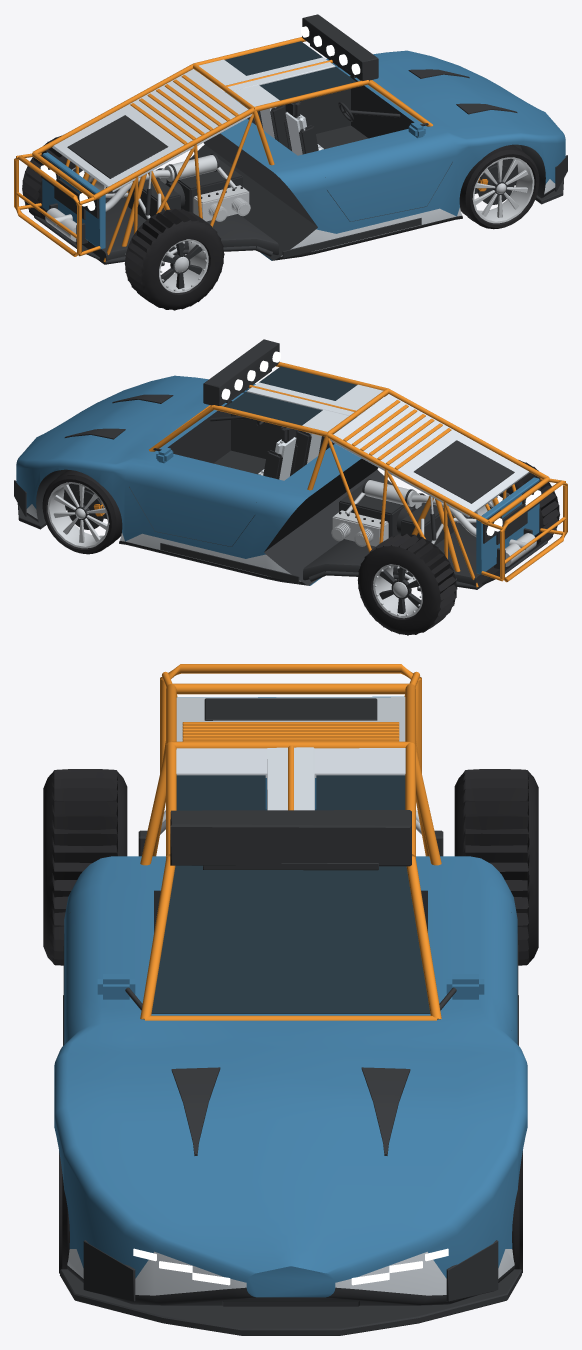
File: knifeedge_blueprint_LOD1.glb
3 renders of one model, top to bottom at view 1: azimuth 30°, elevation 25°; view 2: azimuth 150°, elevation 25°; view 3: azimuth 270°, elevation 25°, orthographic. The views are drawn at different scales.
Visible parts, largest first — view 1: Body_Shell.001, Detail_Iron, Body_Deck.001, Wheel_Truck_Tire_-1.001, Body_CageRear.001, Detail_Secondary, Body_Floor.001, Body_CageRoof.001, Detail_Stripe, Wheel_Coupe_Tire_-1.001, Body_CageBumper.001, Body_TailPlate.001 (+15 smaller); view 2: Body_Shell.001, Detail_Iron, Body_Deck.001, Wheel_Truck_Tire_+1.001, Body_CageRear.001, Detail_Secondary, Body_Floor.001, Body_CageRoof.001, Detail_Stripe, Wheel_Coupe_Tire_+1.001, Body_CageBumper.001, Body_TailPlate.001 (+15 smaller); view 3: Body_Shell.001, Glass_Windshield.001, Detail_Iron, Body_CageRoof.001, Wheel_Truck_Tire_+1.001, Wheel_Truck_Tire_-1.001, Body_Splitter.001, Detail_Secondary, Body_CageRear.001, Detail_Stripe, Body_CageBumper.001, Glass_Roof_-1.001 (+6 smaller).
Part boxes in pixels (bbox=[...]): Body_Shell.001: bbox=[189, 50, 565, 260]; Detail_Iron: bbox=[34, 14, 567, 259]; Body_Deck.001: bbox=[52, 69, 251, 191]; Wheel_Truck_Tire_-1.001: bbox=[124, 208, 224, 310]; Body_CageRear.001: bbox=[32, 63, 254, 262]; Detail_Secondary: bbox=[198, 57, 335, 155]; Body_Floor.001: bbox=[82, 168, 278, 264]; Body_CageRoof.001: bbox=[193, 37, 432, 165]; Detail_Stripe: bbox=[130, 74, 238, 144]; Wheel_Coupe_Tire_-1.001: bbox=[459, 144, 539, 229]; Body_CageBumper.001: bbox=[14, 153, 100, 256]; Body_TailPlate.001: bbox=[42, 152, 105, 249]; Body_Shell.001: bbox=[16, 375, 392, 585]; Detail_Iron: bbox=[14, 339, 547, 584]; Body_Deck.001: bbox=[330, 394, 529, 517]; Wheel_Truck_Tire_+1.001: bbox=[357, 533, 457, 635]; Body_CageRear.001: bbox=[326, 389, 549, 587]; Detail_Secondary: bbox=[246, 382, 383, 480]; Body_Floor.001: bbox=[303, 493, 499, 589]; Body_CageRoof.001: bbox=[149, 362, 388, 490]; Detail_Stripe: bbox=[343, 400, 451, 469]; Wheel_Coupe_Tire_+1.001: bbox=[42, 470, 122, 554]; Body_CageBumper.001: bbox=[481, 478, 567, 582]; Body_TailPlate.001: bbox=[476, 477, 539, 574]; Body_Shell.001: bbox=[54, 856, 527, 1305]; Glass_Windshield.001: bbox=[151, 865, 430, 1013]; Detail_Iron: bbox=[63, 698, 518, 1306]; Body_CageRoof.001: bbox=[140, 741, 441, 1020]; Wheel_Truck_Tire_+1.001: bbox=[454, 769, 538, 965]; Wheel_Truck_Tire_-1.001: bbox=[43, 769, 127, 965]; Body_Splitter.001: bbox=[60, 1269, 521, 1335]; Detail_Secondary: bbox=[176, 747, 405, 810]; Body_CageRear.001: bbox=[152, 683, 429, 856]; Detail_Stripe: bbox=[182, 722, 399, 741]; Body_CageBumper.001: bbox=[160, 664, 421, 773]; Glass_Roof_-1.001: bbox=[176, 775, 265, 810].
Size of the model in its own units: 5.22 by 1.76 by 2.24.
